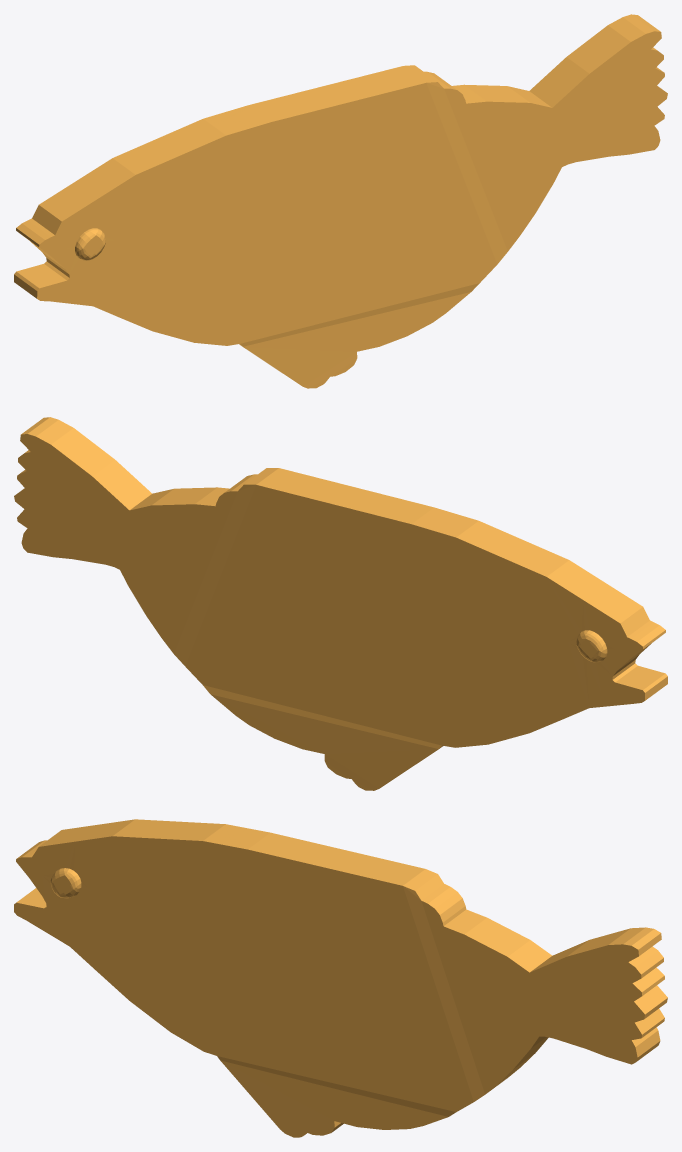
File: Fish.fbx
3 renders of one model, top to bottom at view 1: azimuth 30°, elevation 25°; view 2: azimuth 150°, elevation 25°; view 3: azimuth 330°, elevation 25°, orthographic.
Parts seen in each view (by area): view 1: Fish; view 2: Fish; view 3: Fish.
Boxes of the visible parts, <box> form: Fish: <box>14,14,667,388</box>; Fish: <box>14,417,667,790</box>; Fish: <box>14,819,667,1137</box>.
Size of the model in its own units: 443 by 187 by 37.66.
